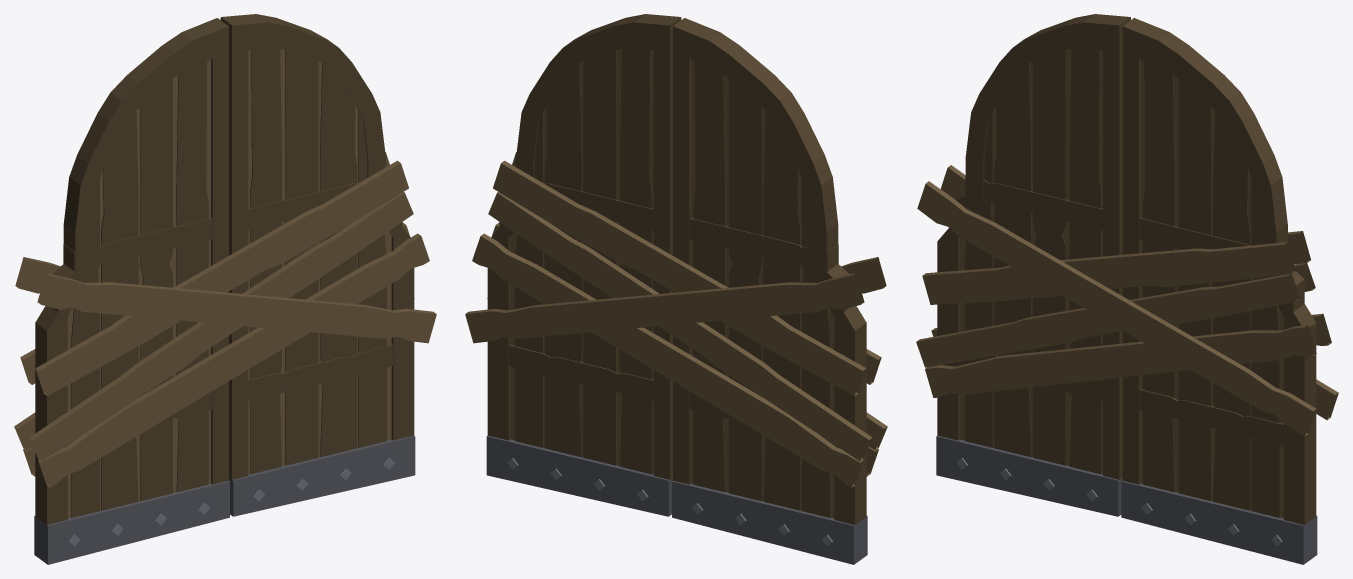
File: Doors_RoundArch_Covered.glb
The picture shows the model from 3 angles, left to right: view 1: azimuth 30°, elevation 25°; view 2: azimuth 150°, elevation 25°; view 3: azimuth 330°, elevation 25°; orthographic projection.
Parts seen in each view (by area): view 1: Doors_RoundArch_Covered; view 2: Doors_RoundArch_Covered; view 3: Doors_RoundArch_Covered.
Part boxes in pixels (bbox=[...]): Doors_RoundArch_Covered: bbox=[14, 14, 436, 564]; Doors_RoundArch_Covered: bbox=[465, 14, 887, 564]; Doors_RoundArch_Covered: bbox=[916, 14, 1338, 564].
Bounding box in the file's own units: 2.52 × 2.97 × 0.2789.
